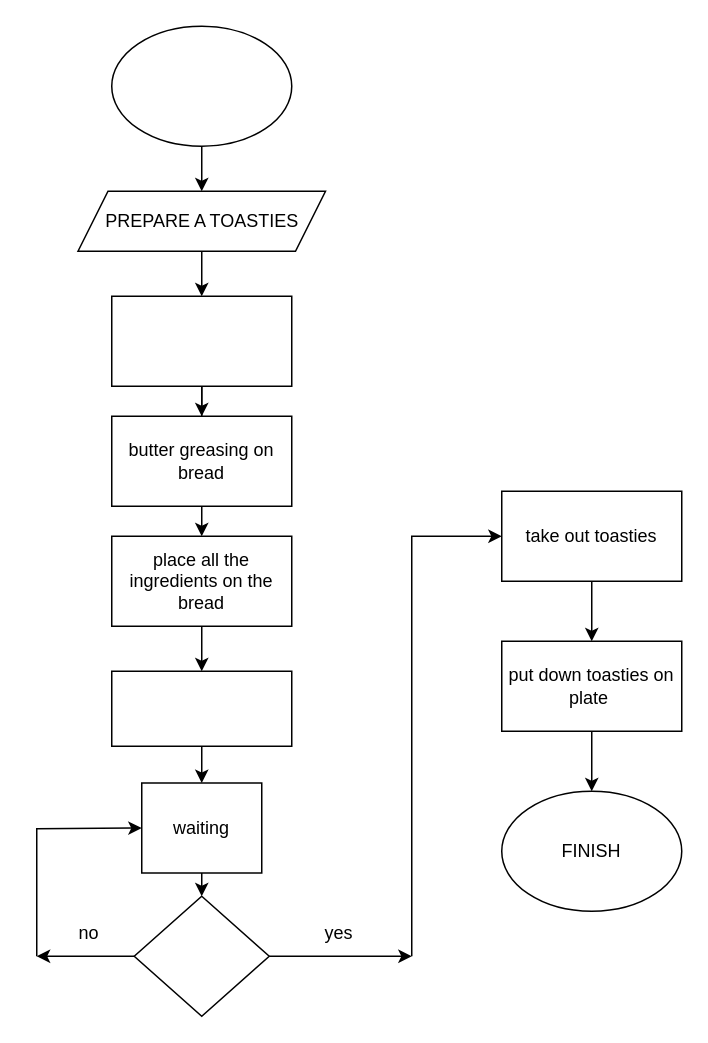
Image size: 708x1043. Some labels were removed from this diagram. The shapes that lost their labels are listed below. From the top down, each one's centre as x and y in pixels, then its label:
At (x=201, y=85): "START".
At (x=201, y=340): "take out ham and cheese".
At (x=201, y=708): "put it all to grill".
At (x=201, y=955): "toasted enough?".
